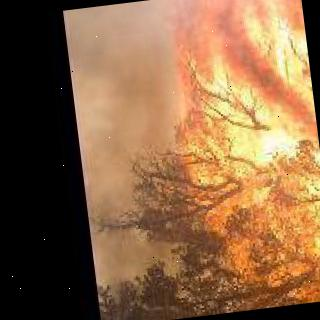fire: (132, 0, 320, 319)
